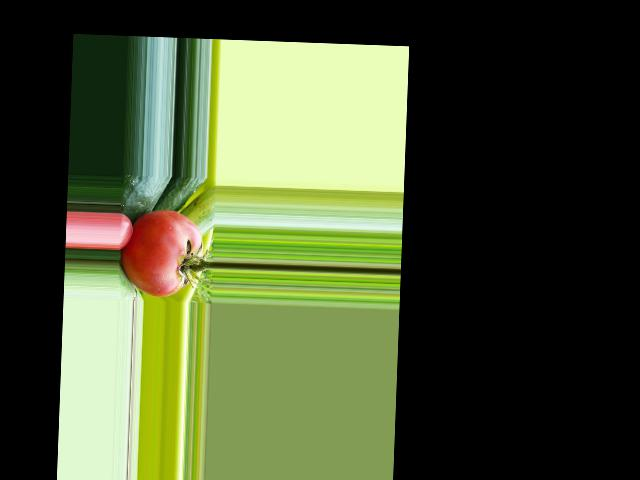tomato: (118, 208, 203, 298)
